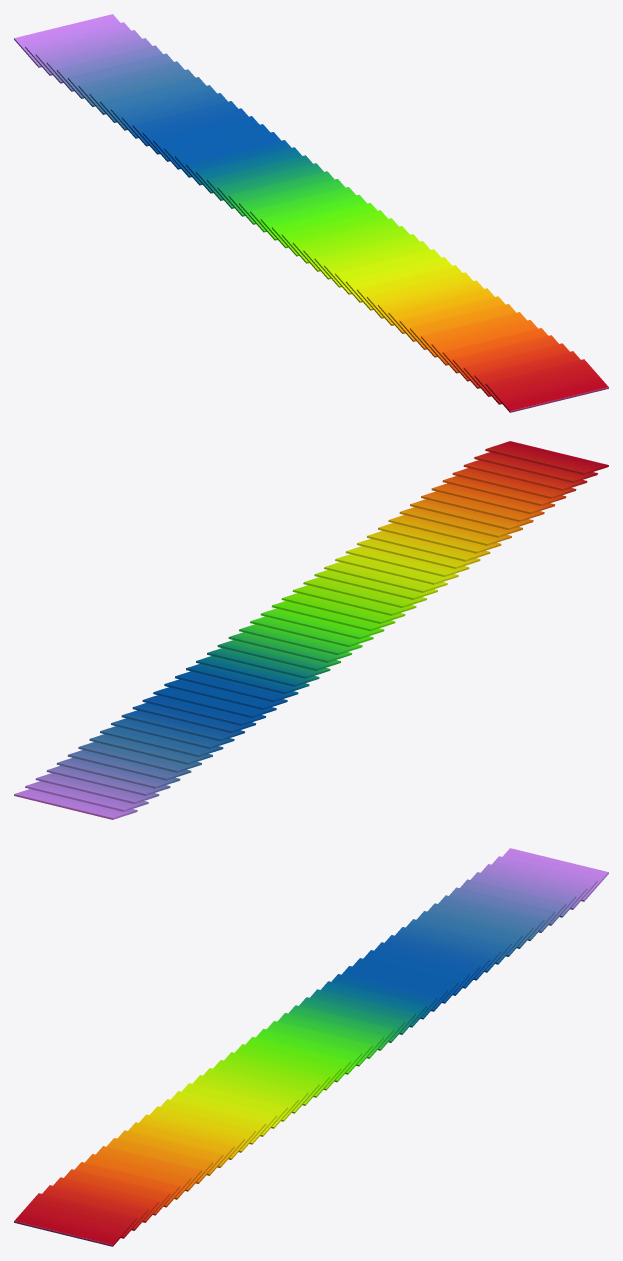
File: Multiplier.fbx
3 views of the same model, one above another, from view 1: azimuth 30°, elevation 25°; view 2: azimuth 150°, elevation 25°; view 3: azimuth 330°, elevation 25° (orthographic).
Parts seen in each view (by area): view 1: pCube32, pCube24, pCube38, pCube51, pCube15, pCube16, pCube18, pCube33, pCube44, pCube9, pCube29, pCube30 (+33 smaller); view 2: pCube32, pCube48, pCube25, pCube45, pCube24, pCube51, pCube26, pCube29, pCube30, pCube38, pCube44, pCube15 (+33 smaller); view 3: pCube32, pCube24, pCube38, pCube51, pCube15, pCube16, pCube18, pCube33, pCube44, pCube9, pCube29, pCube30 (+33 smaller).
Part boxes in pixels (left/top/right/bottom): pCube32: left=485, top=359, right=608, bottom=412; pCube24: left=324, top=241, right=430, bottom=294; pCube38: left=452, top=335, right=558, bottom=388; pCube51: left=121, top=93, right=227, bottom=146; pCube15: left=260, top=194, right=366, bottom=248; pCube16: left=303, top=226, right=409, bottom=279; pCube18: left=281, top=210, right=387, bottom=263; pCube33: left=431, top=320, right=537, bottom=373; pCube44: left=14, top=14, right=120, bottom=67; pCube9: left=153, top=116, right=259, bottom=169; pCube29: left=410, top=304, right=516, bottom=357; pCube30: left=366, top=272, right=472, bottom=325; pCube32: left=485, top=441, right=608, bottom=474; pCube48: left=100, top=726, right=223, bottom=756; pCube25: left=345, top=546, right=469, bottom=576; pCube45: left=35, top=773, right=159, bottom=803; pCube24: left=324, top=562, right=447, bottom=592; pCube51: left=121, top=710, right=244, bottom=741; pCube26: left=388, top=515, right=511, bottom=545; pCube29: left=410, top=499, right=533, bottom=529; pCube30: left=366, top=531, right=490, bottom=561; pCube38: left=452, top=468, right=576, bottom=498; pCube44: left=14, top=789, right=137, bottom=819; pCube15: left=260, top=608, right=384, bottom=639; pCube32: left=14, top=1193, right=137, bottom=1246; pCube24: left=192, top=1075, right=298, bottom=1128; pCube38: left=64, top=1169, right=170, bottom=1222; pCube51: left=395, top=927, right=501, bottom=980; pCube15: left=256, top=1028, right=362, bottom=1082; pCube16: left=213, top=1060, right=319, bottom=1113; pCube18: left=235, top=1044, right=341, bottom=1097; pCube33: left=85, top=1154, right=191, bottom=1207; pCube44: left=502, top=848, right=608, bottom=901; pCube9: left=363, top=950, right=469, bottom=1003; pCube29: left=106, top=1138, right=212, bottom=1191; pCube30: left=150, top=1106, right=256, bottom=1159.
Size of the model in its own units: 51.44 by 5.85 by 448.
Materials: 1 (1 with a texture image).
